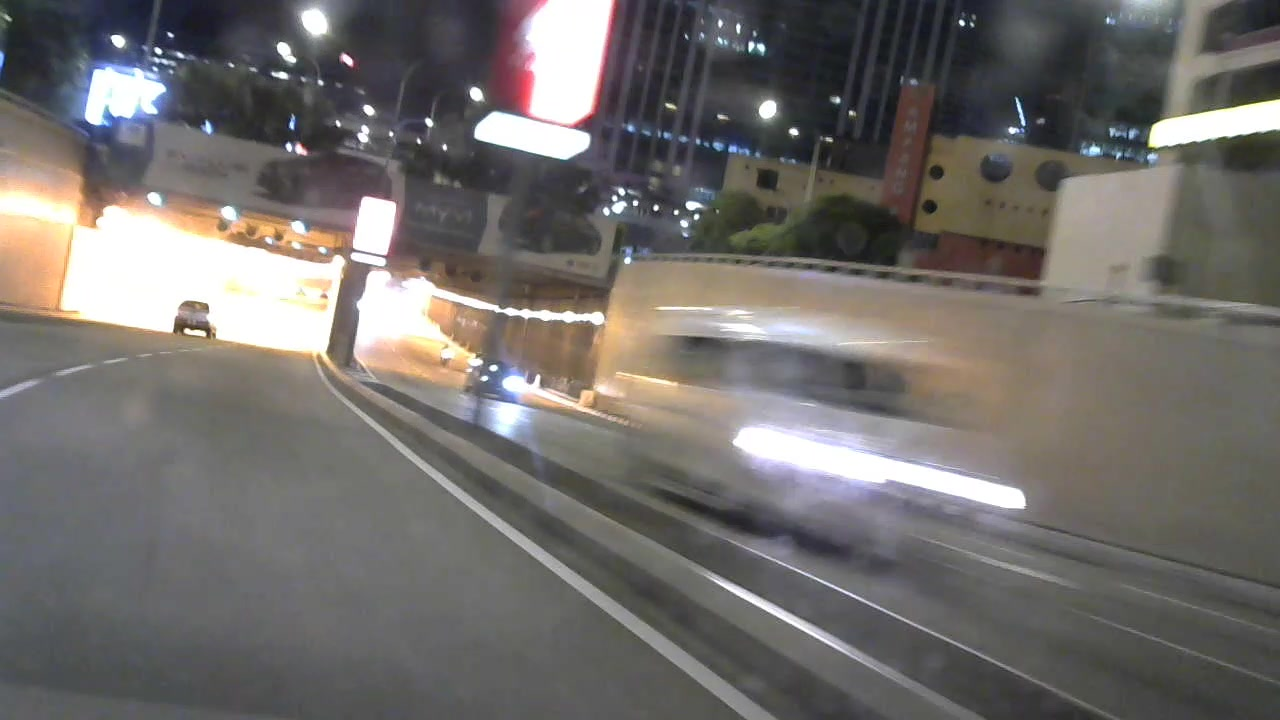Car: (624, 299, 926, 541), (249, 152, 401, 204), (461, 352, 530, 403), (163, 298, 218, 348)
